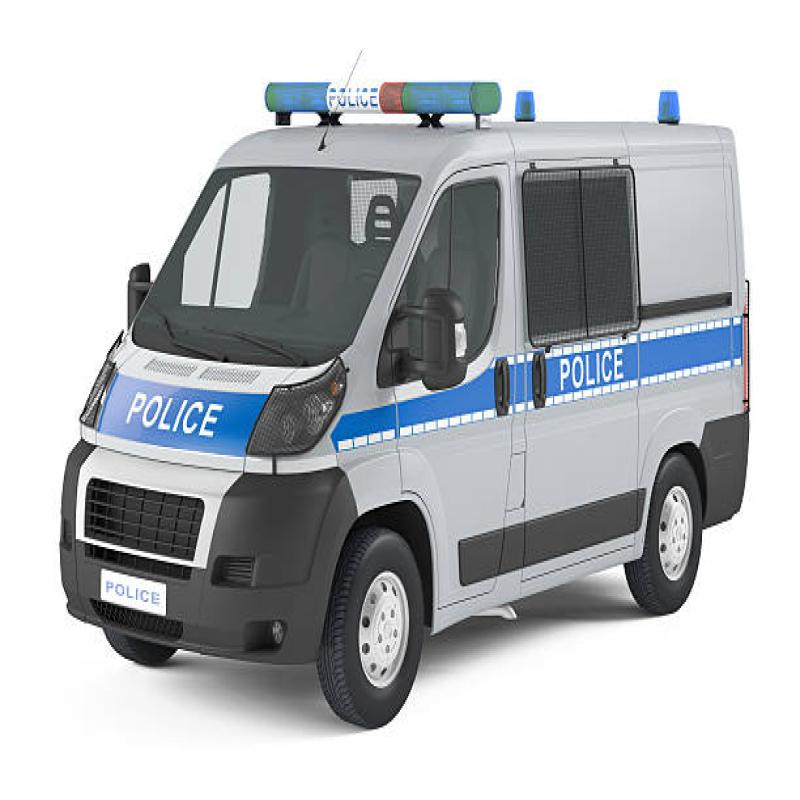AmbulanceSiren: (251, 72, 505, 134)
